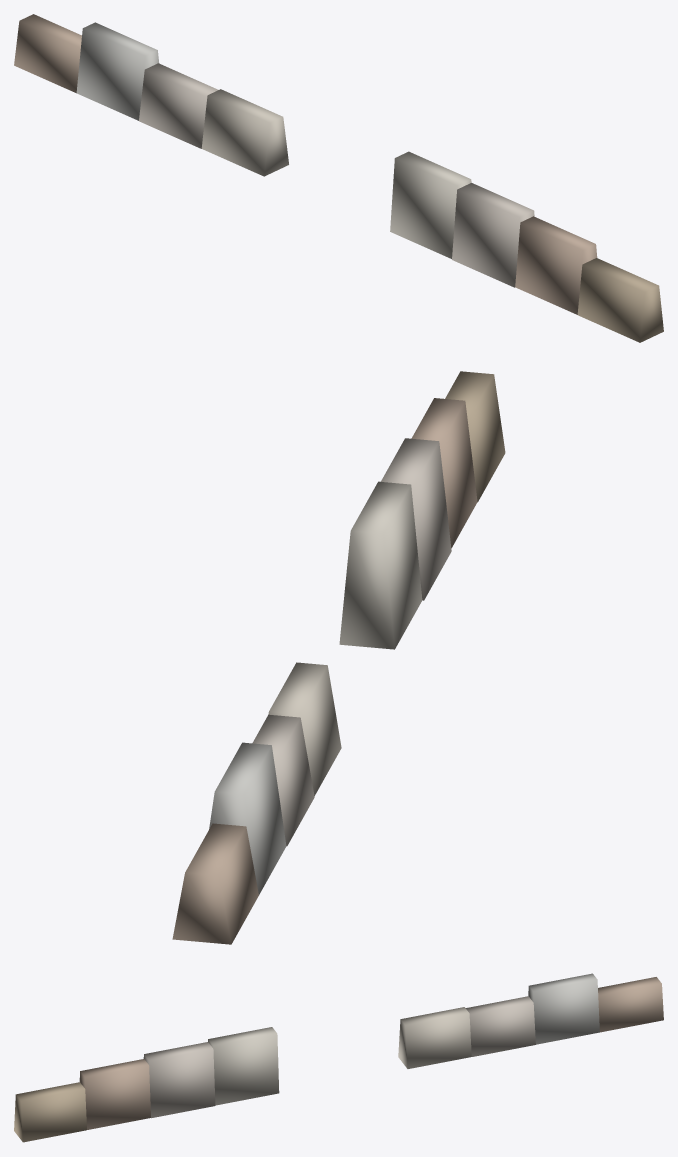
The model's file is farm_26_41_collision.glb.
3 views of the same model, one above another, from view 1: azimuth 30°, elevation 25°; view 2: azimuth 150°, elevation 25°; view 3: azimuth 270°, elevation 25° (orthographic). The views are drawn at different scales.
Parts seen in each view (by area): view 1: geometry_0; view 2: geometry_0; view 3: geometry_0.
Part boxes in pixels (x1,y1,x2,y2): geometry_0: [14, 14, 663, 342]; geometry_0: [172, 371, 505, 944]; geometry_0: [14, 973, 663, 1142].
Bounding box in the file's own units: 5.52 × 2.04 × 15.02.
